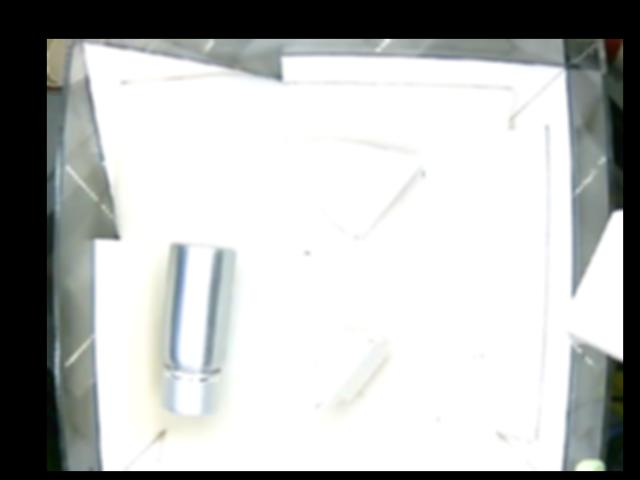Bottle: (162, 243, 234, 417)
China: (266, 138, 417, 236), (300, 313, 383, 419)
